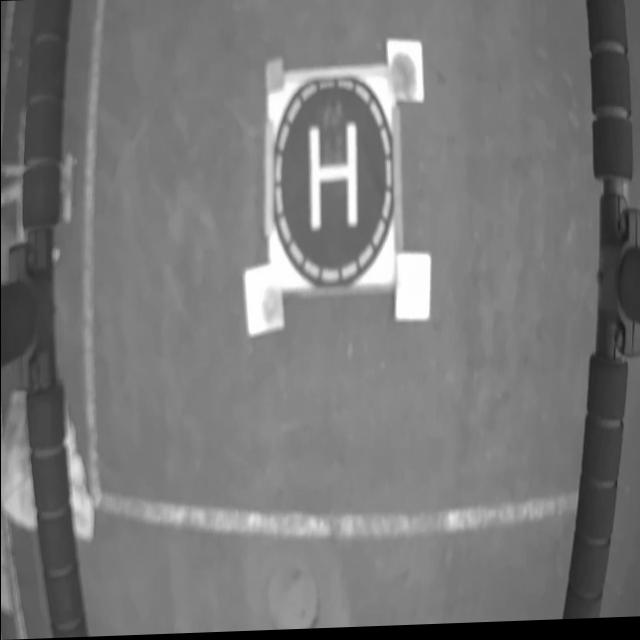Helipad: (308, 126, 357, 232)
